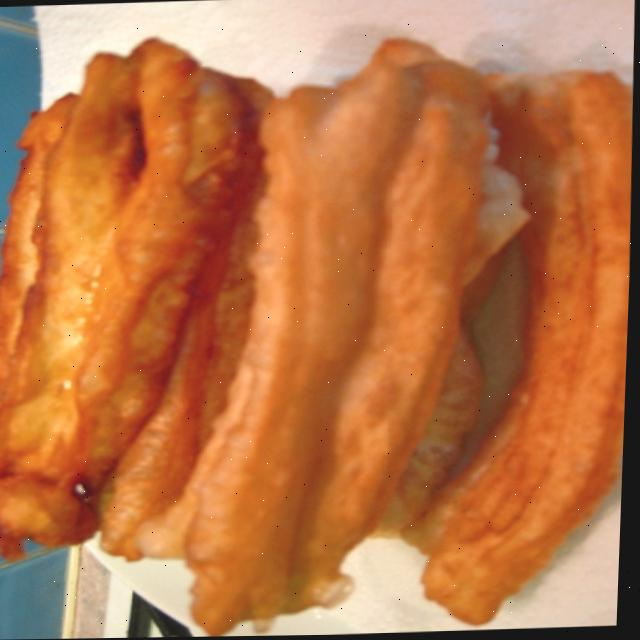炸货点心: (0, 79, 637, 601)
